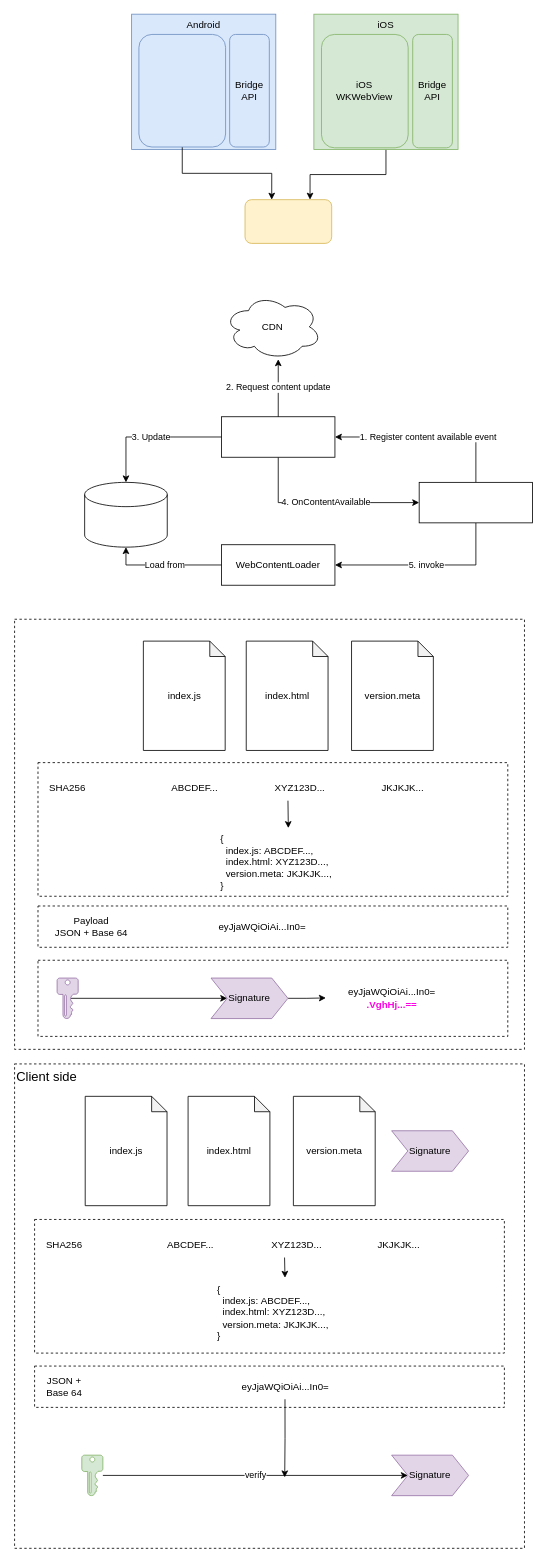
The diagram is 547 pixels wide and 1562 high, and some of its shapes have lost their labels. Each missing label, with the box of its shape:
Android WebView: (138, 34, 226, 147)
Local Cache: (84, 482, 167, 547)
private key: (56, 977, 78, 1019)
public key: (81, 1454, 103, 1496)
Server side: (14, 618, 524, 1049)
Web Component JS + HTML: (244, 199, 332, 243)
WebContentManager: (221, 416, 335, 457)
WebViewImp.: (418, 482, 533, 523)
